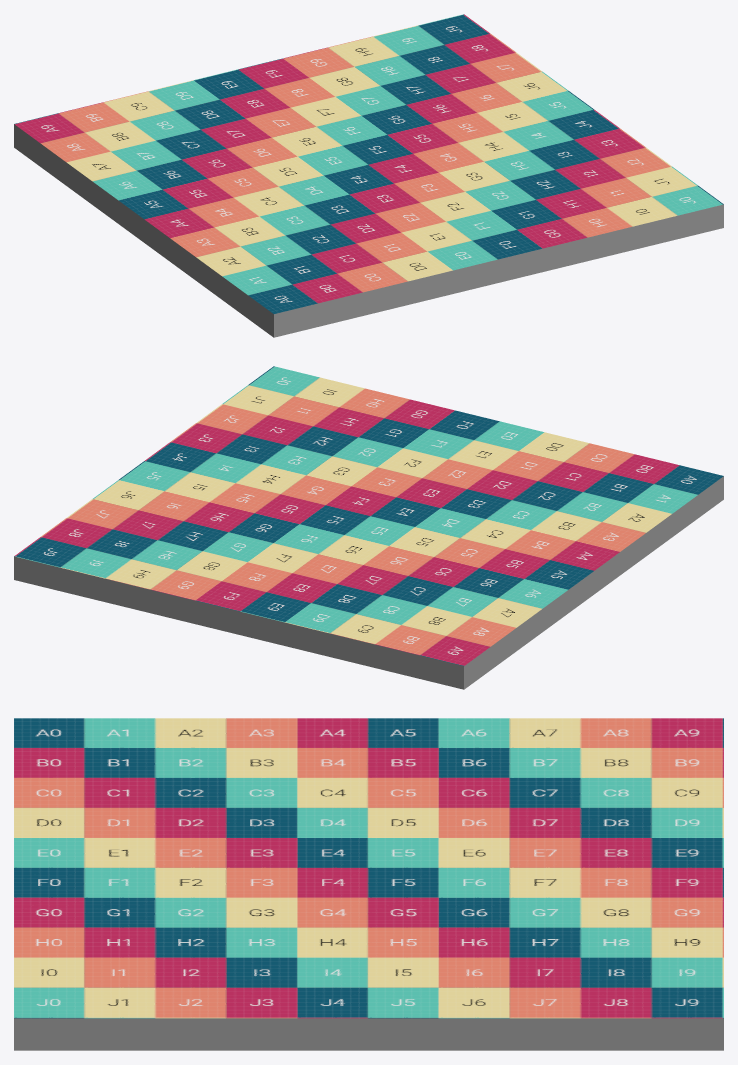
File: Map2.fbx
3 renders of one model, top to bottom at view 1: azimuth 30°, elevation 25°; view 2: azimuth 150°, elevation 25°; view 3: azimuth 270°, elevation 25°, orthographic. The views are drawn at different scales.
Parts seen in each view (by area): view 1: pCube1; view 2: pCube1; view 3: pCube1.
Part boxes in pixels (bbox=[...]): pCube1: bbox=[14, 14, 723, 337]; pCube1: bbox=[14, 366, 723, 689]; pCube1: bbox=[14, 718, 723, 1050].
Bounding box in the file's own units: 20 × 1 × 20.
Materials: 2 (1 with a texture image).
